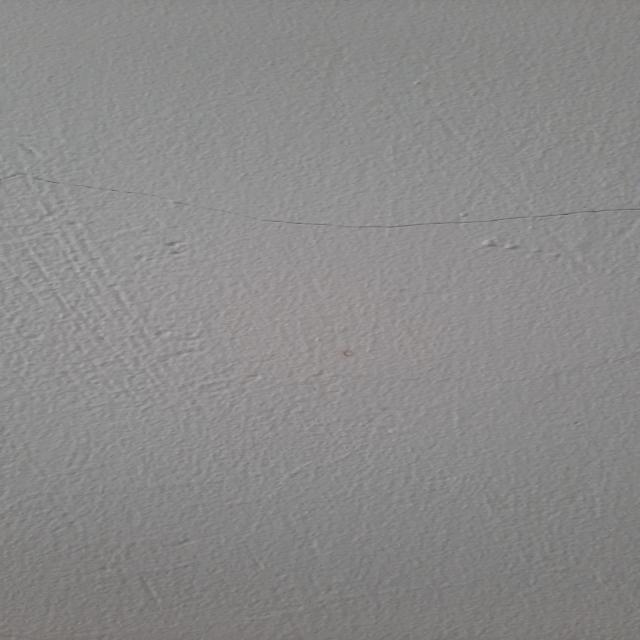Crack: (4, 166, 640, 235)
